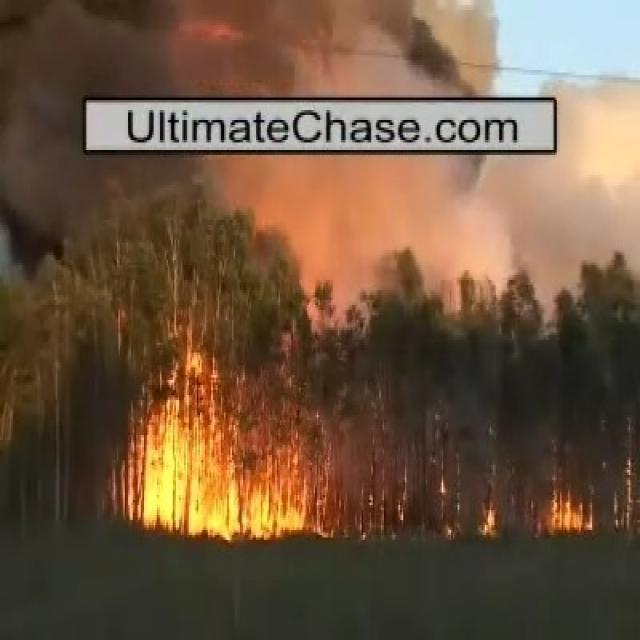fire: (146, 375, 301, 535)
smoke: (44, 7, 491, 100), (266, 161, 556, 257)
